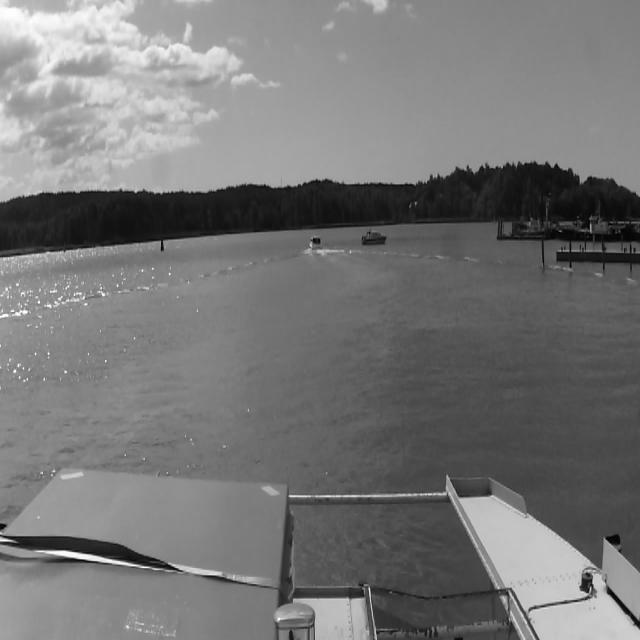buoy: (160, 238, 164, 252)
ship: (362, 230, 388, 247), (308, 234, 324, 253)
